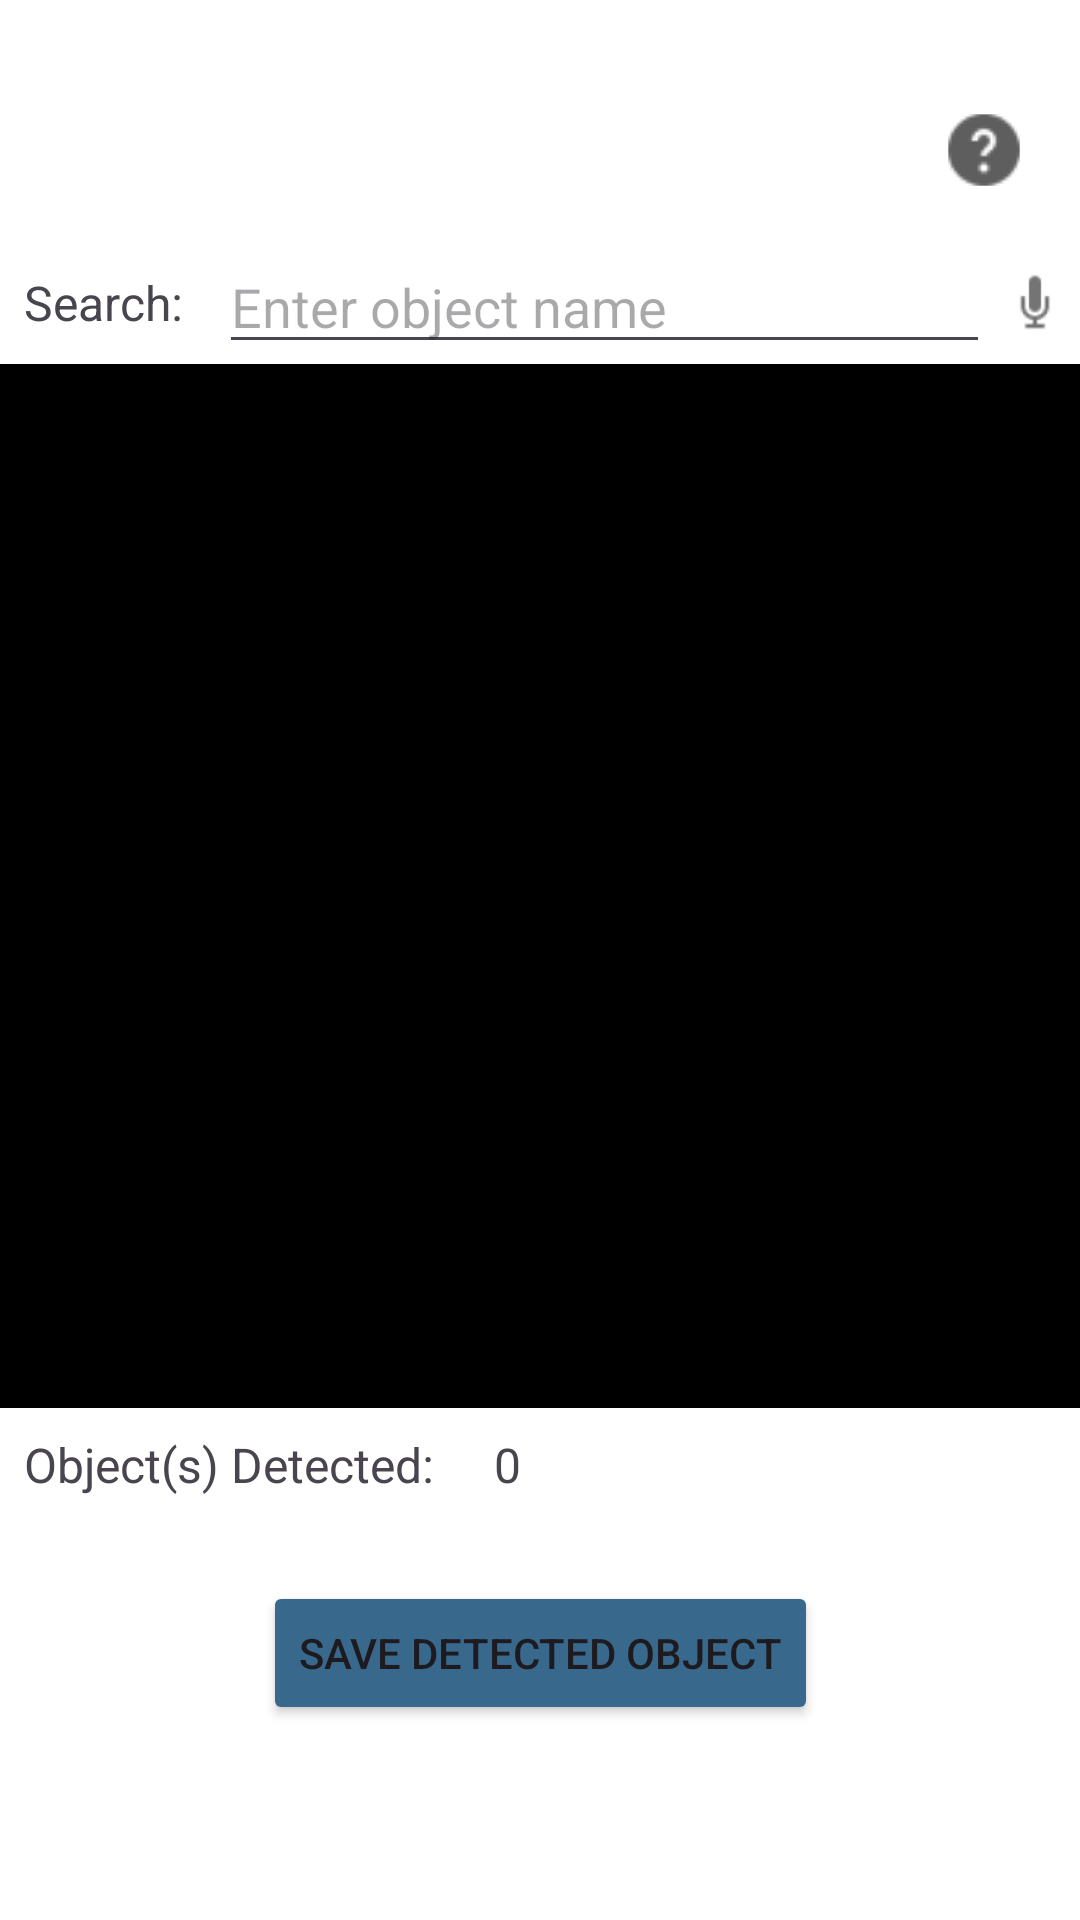

Screen size 1080px×1920px. Icon name, then its center in pixels as point (x, y):
Help: point (984, 150)
microphone button: point (1035, 302)
